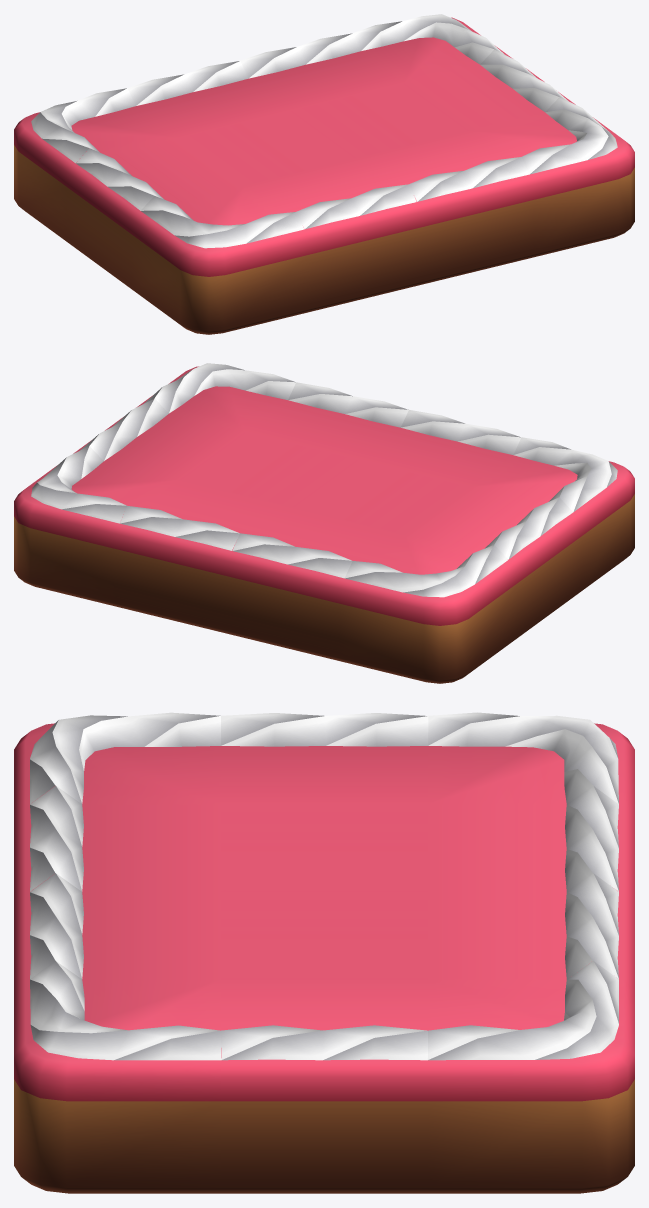
File: m_SheetCake05.fbx
The picture shows the model from 3 angles, top to bottom: view 1: azimuth 30°, elevation 25°; view 2: azimuth 150°, elevation 25°; view 3: azimuth 270°, elevation 25°; orthographic projection. The views are drawn at different scales.
Parts seen in each view (by area): view 1: m_SheetCake05; view 2: m_SheetCake05; view 3: m_SheetCake05.
Part boxes in pixels (box(x1,y1,x2,y2)): m_SheetCake05: box(14, 14, 634, 334); m_SheetCake05: box(14, 363, 634, 683); m_SheetCake05: box(14, 712, 634, 1193).
Bounding box in the file's own units: 40 × 8 × 30.
